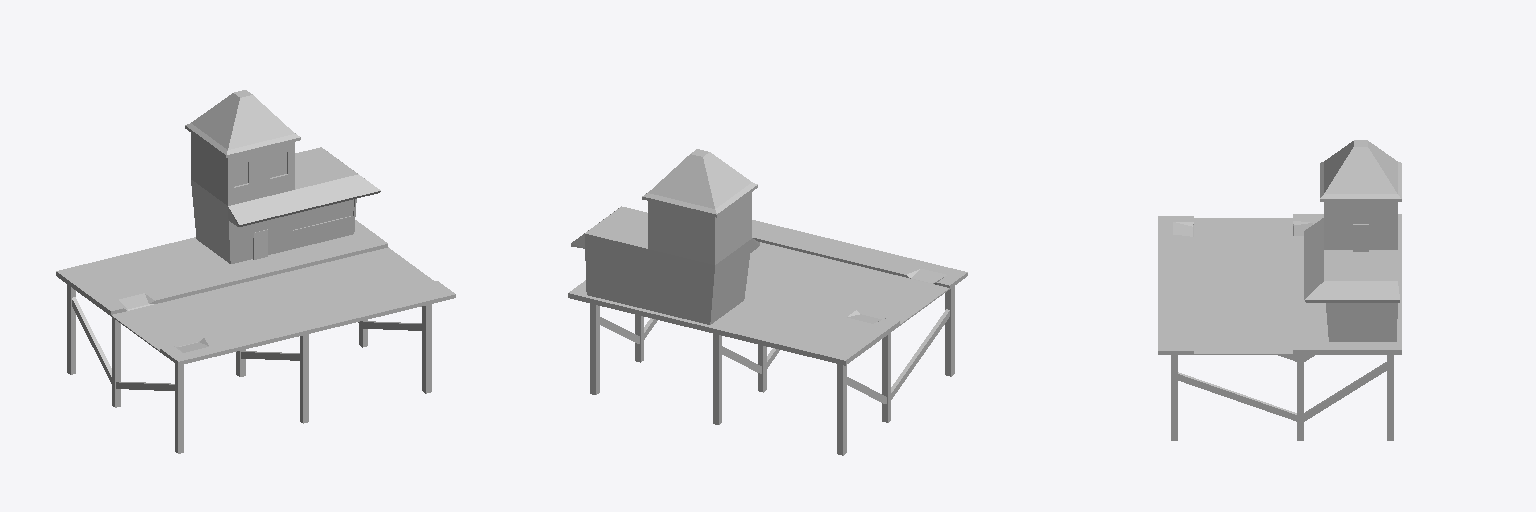
The model's file is train_station.obj.
The picture shows the model from 3 angles: view 1: azimuth 30°, elevation 25°; view 2: azimuth 150°, elevation 25°; view 3: azimuth 270°, elevation 25°; orthographic projection.
Parts seen in each view (by area): view 1: pCube23; view 2: pCube23; view 3: pCube23.
Part boxes in pixels (x1,y1,x2,y2): pCube23: (56,90,455,453); pCube23: (568,149,967,455); pCube23: (1158,140,1401,440).
Size of the model in its own units: 46.93 by 40.7 by 35.88.